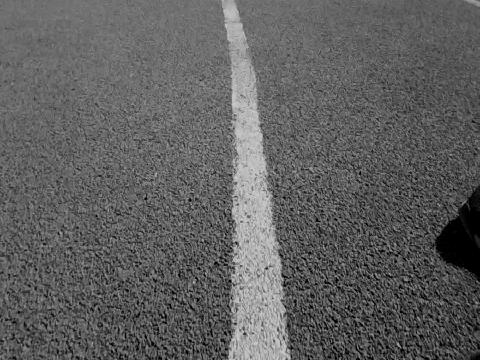Lines: (221, 0, 291, 360)
